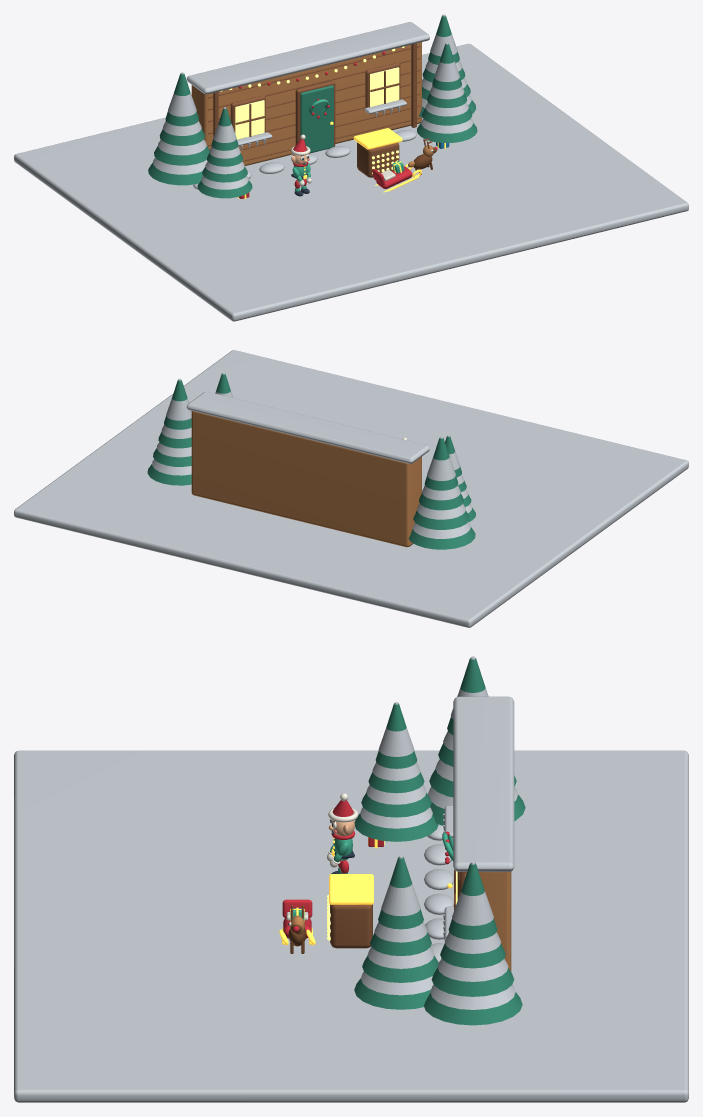
Rendered from chapter-24.glb.
3 renders of one model, top to bottom at view 1: azimuth 30°, elevation 25°; view 2: azimuth 150°, elevation 25°; view 3: azimuth 270°, elevation 25°, orthographic. The views are drawn at different scales.
Visible parts, largest first — view 1: Schneeboden, Werkstatt, Schneegesims, Wichteltür, Weihnachtsmaschine, Warmes Fenster, Warmes Fenster.001, Deckel, Tannenzweig.004, Tannenzweig.008, Tannenzweig.009, Türrahmen (+9 smaller); view 2: Schneeboden, Werkstatt, Schneegesims, Tannenzweig.008, Tannenzweig.009, Tannenzweig.011, Schnee.008, Schnee.011, Tannenzweig.015, Tannenzweig.012, Tannenzweig.010, Schnee.009 (+1 smaller); view 3: Schneeboden, Schneegesims, Weihnachtsmaschine, Werkstatt, Tannenzweig.012, Deckel, Tannenzweig.013, Tannenzweig.015, Tannenzweig, Schnee.012, Tannenzweig.005, Tannenzweig.004 (+17 smaller).
Part boxes in pixels (x1=…): Schneeboden: x1=14, y1=43, x2=688, y2=321; Werkstatt: x1=191, y1=42, x2=421, y2=165; Schneegesims: x1=186, y1=22, x2=429, y2=94; Wichteltür: x1=300, y1=85, x2=333, y2=153; Weihnachtsmaschine: x1=357, y1=142, x2=399, y2=177; Warmes Fenster: x1=235, y1=100, x2=264, y2=139; Warmes Fenster.001: x1=370, y1=67, x2=399, y2=106; Deckel: x1=353, y1=128, x2=402, y2=149; Tannenzweig.004: x1=417, y1=122, x2=477, y2=142; Tannenzweig.008: x1=148, y1=163, x2=202, y2=185; Tannenzweig.009: x1=154, y1=146, x2=209, y2=165; Türrahmen: x1=295, y1=81, x2=335, y2=146; Schneeboden: x1=14, y1=350, x2=688, y2=627; Werkstatt: x1=191, y1=411, x2=421, y2=547; Schneegesims: x1=186, y1=391, x2=429, y2=463; Tannenzweig.008: x1=408, y1=527, x2=475, y2=549; Tannenzweig.009: x1=413, y1=510, x2=469, y2=529; Tannenzweig.011: x1=424, y1=437, x2=458, y2=490; Schnee.008: x1=412, y1=522, x2=470, y2=538; Schnee.011: x1=427, y1=436, x2=455, y2=480; Tannenzweig.015: x1=164, y1=380, x2=191, y2=429; Tannenzweig.012: x1=147, y1=464, x2=191, y2=485; Tannenzweig.010: x1=419, y1=493, x2=463, y2=510; Schnee.009: x1=417, y1=504, x2=465, y2=519; Schneeboden: x1=14, y1=750, x2=688, y2=1102; Schneegesims: x1=453, y1=696, x2=514, y2=871; Weihnachtsmaschine: x1=330, y1=904, x2=372, y2=948; Werkstatt: x1=466, y1=871, x2=511, y2=971; Tannenzweig.012: x1=424, y1=992, x2=522, y2=1025; Deckel: x1=329, y1=874, x2=373, y2=904; Tannenzweig.013: x1=431, y1=968, x2=514, y2=996; Tannenzweig.015: x1=448, y1=863, x2=497, y2=939; Tannenzweig: x1=354, y1=813, x2=438, y2=841; Schnee.012: x1=430, y1=985, x2=515, y2=1009; Tannenzweig.005: x1=362, y1=955, x2=438, y2=982; Tannenzweig.004: x1=354, y1=978, x2=430, y2=1009.
Size of the model in its own units: 18 by 4.39 by 15.
